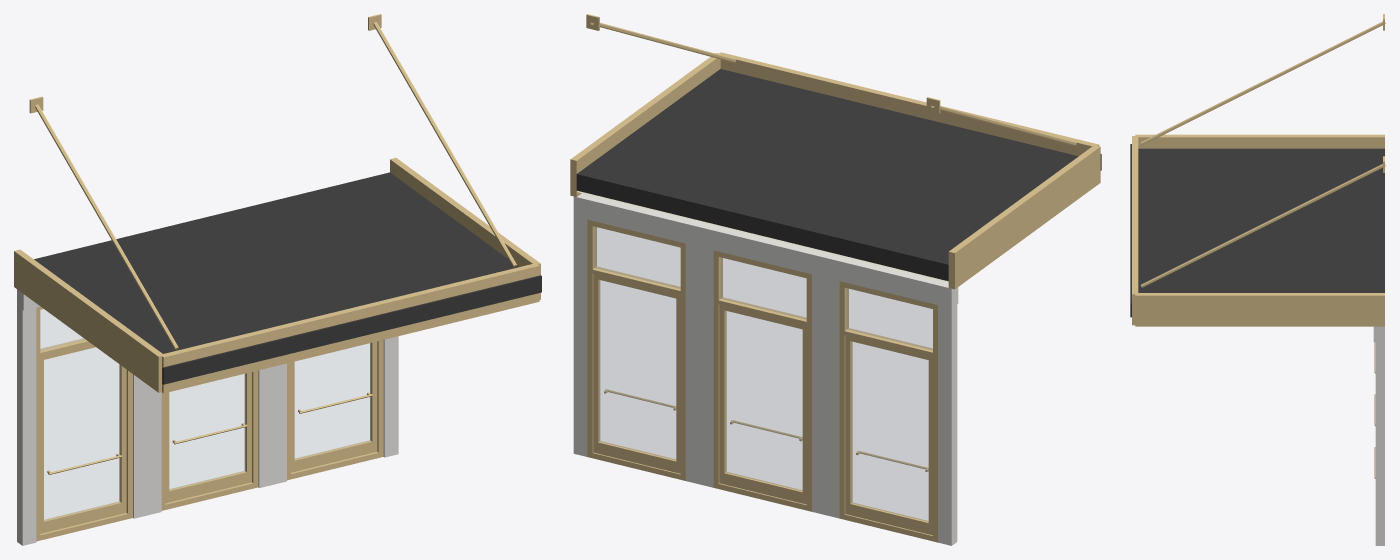
The model's file is door_hotel_marquee_6.0.glb.
3 renders of one model, left to right at view 1: azimuth 30°, elevation 25°; view 2: azimuth 150°, elevation 25°; view 3: azimuth 270°, elevation 25°, orthographic. The views are drawn at different scales.
Parts seen in each view (by area): view 1: door_hotel_marquee; view 2: door_hotel_marquee; view 3: door_hotel_marquee.
Part boxes in pixels (x1,y1,x2,y2): door_hotel_marquee: [14, 14, 541, 545]; door_hotel_marquee: [570, 14, 1101, 545]; door_hotel_marquee: [1130, 14, 1385, 545].
Size of the model in its own units: 6.1 by 6.7 by 4.09.
